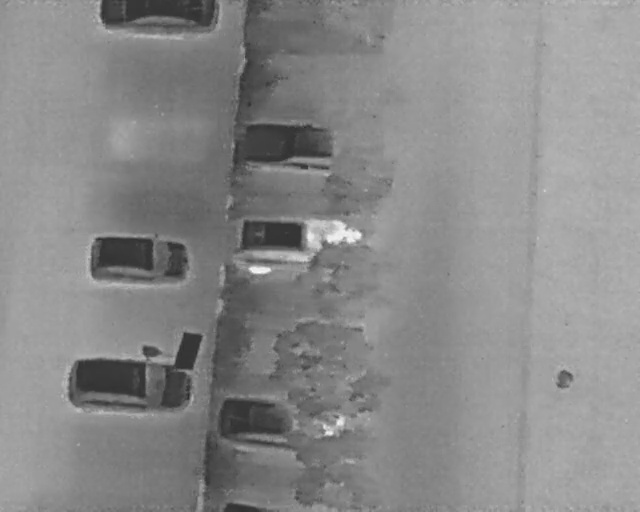Car: (213, 389, 361, 457), (63, 352, 201, 417), (233, 209, 370, 272), (235, 116, 370, 178), (82, 231, 196, 286), (97, 0, 222, 40)
